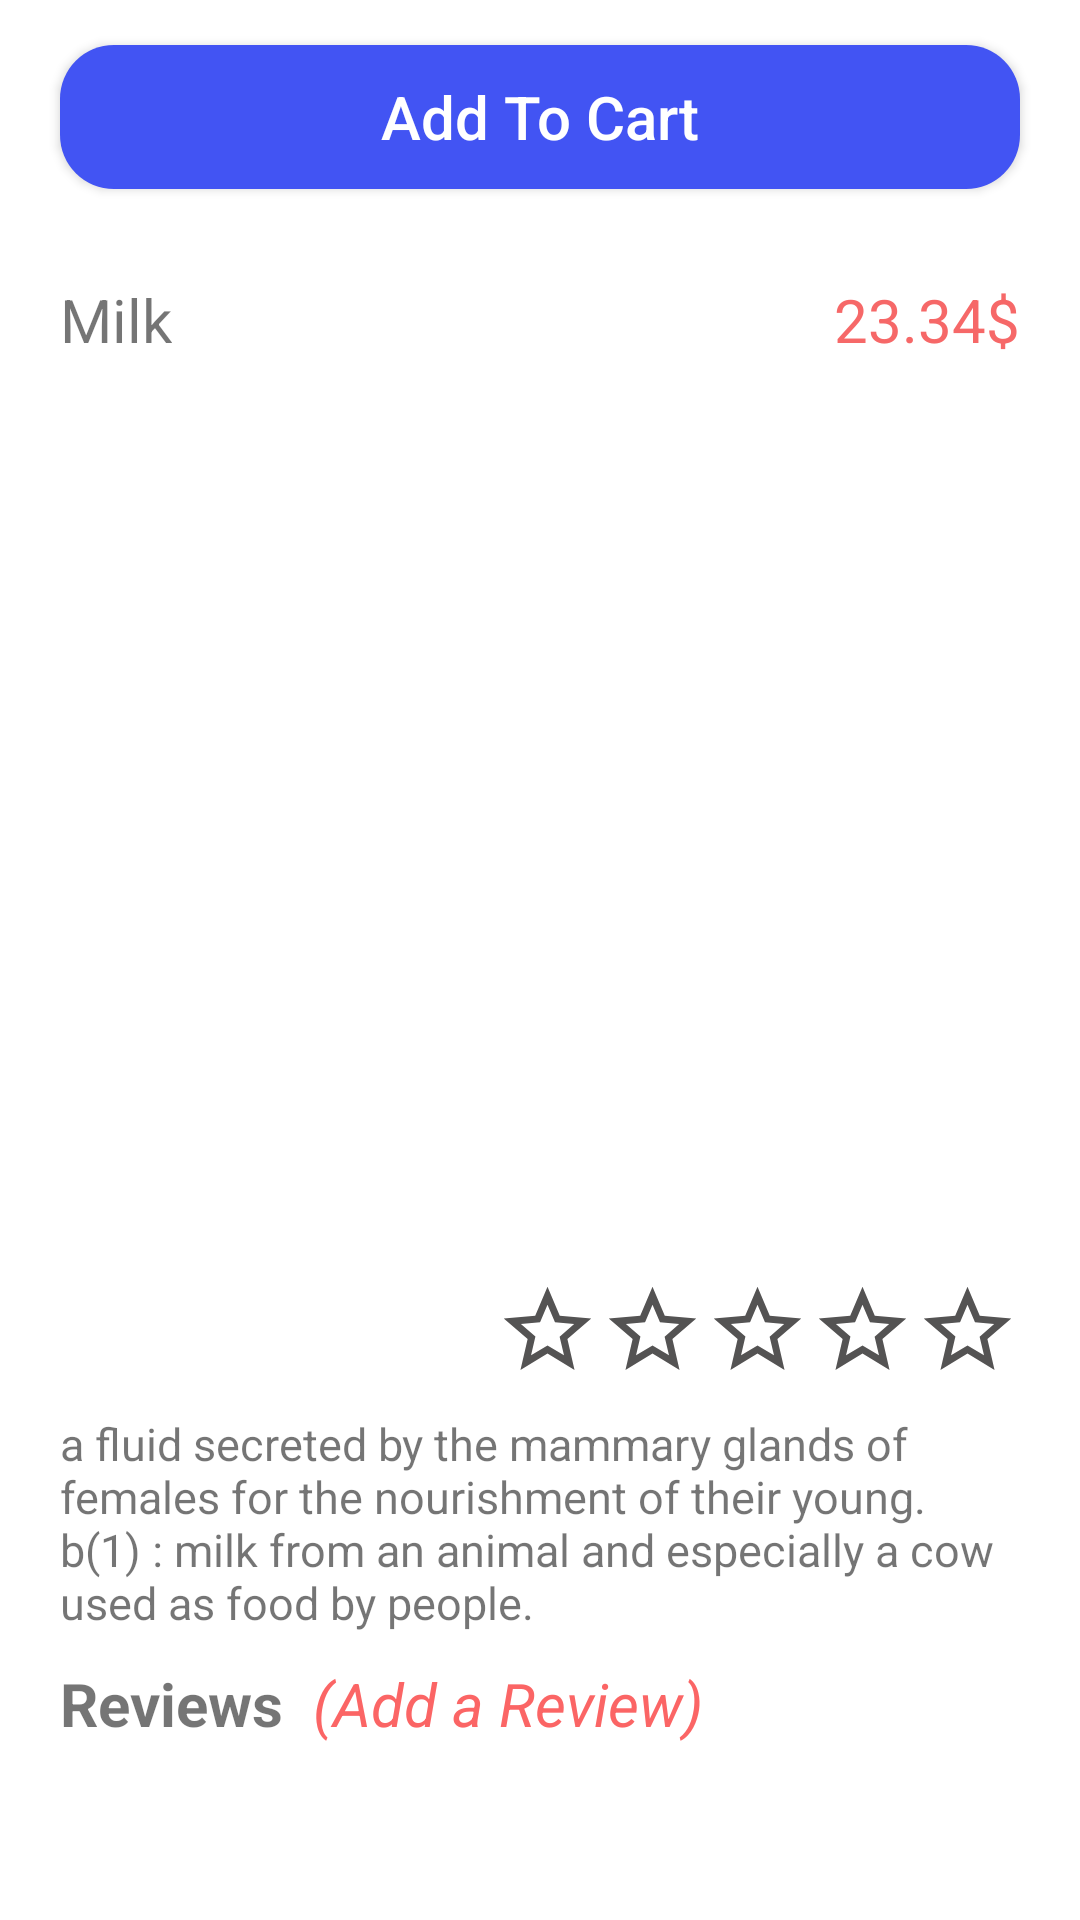

Icon bounding boxes for this 1080px x 1920px phone screenshot, format (x1, y1, x2, y2):
empty star: (504, 1287, 591, 1370), (609, 1287, 696, 1370), (714, 1287, 801, 1370), (819, 1287, 906, 1370), (924, 1287, 1011, 1370)
